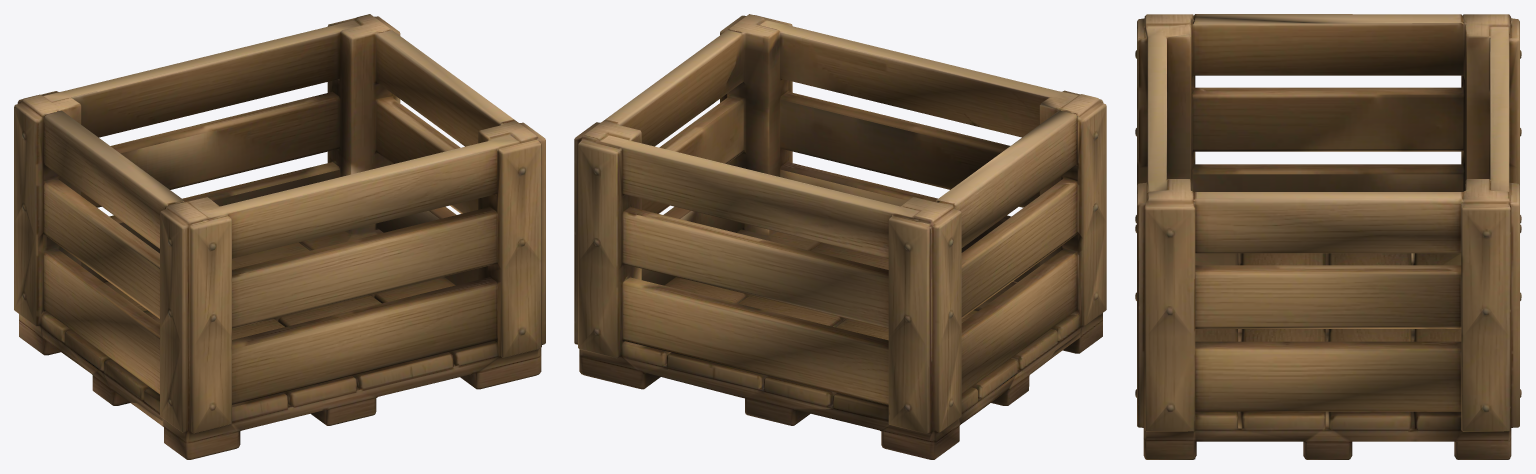
File: Outdoor__wooden_crate_outdoor_realistic_style_03cf0918_v1.cluster.glb
The picture shows the model from 3 angles, left to right: view 1: azimuth 30°, elevation 25°; view 2: azimuth 150°, elevation 25°; view 3: azimuth 270°, elevation 25°; orthographic projection. The views are drawn at different scales.
Visible parts, largest first — view 1: texture_pbr_20250901; view 2: texture_pbr_20250901; view 3: texture_pbr_20250901.
Part boxes in pixels (left/top/right/bottom): texture_pbr_20250901: left=14, top=14, right=545, bottom=459; texture_pbr_20250901: left=574, top=14, right=1106, bottom=459; texture_pbr_20250901: left=1135, top=14, right=1521, bottom=459.
Bounding box in the file's own units: 1.9 × 1.18 × 1.59.
1 material, 1 textured.
